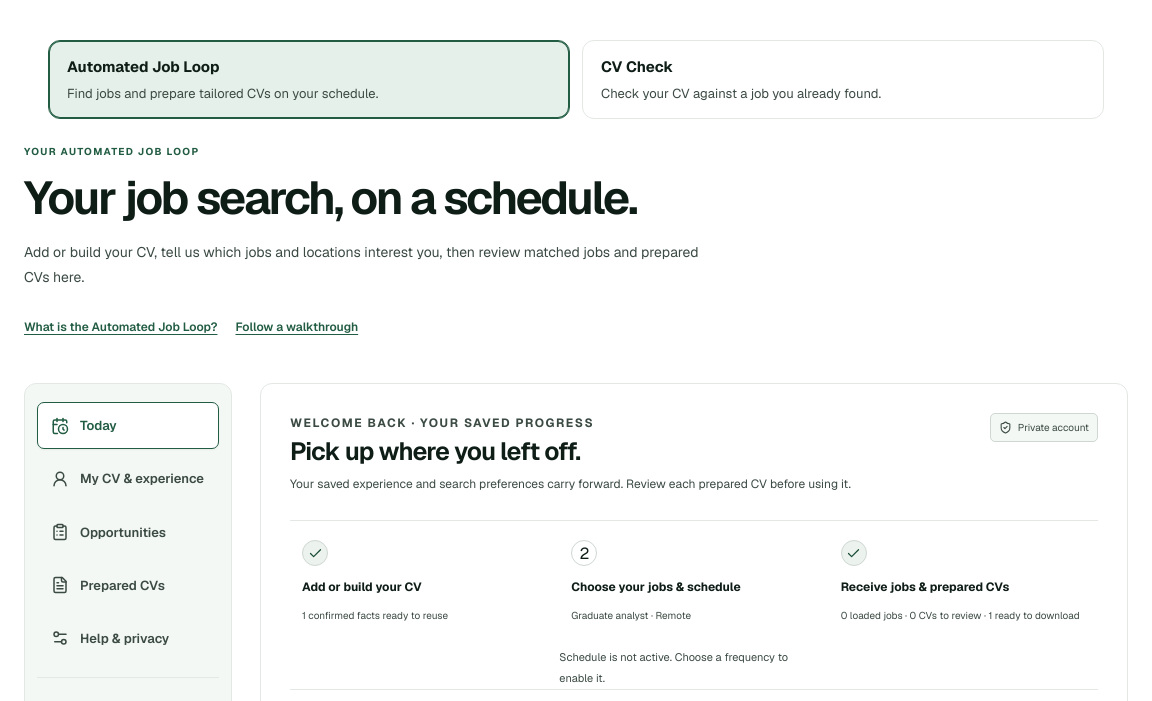
Scenario: exact approvals and account lifecycle › keeps ready Word and text formats available when the approved PDF cannot meet its page preference
This screenshot has width=1152, height=701.
What coordinates should you click on to do the following:
click the button "Prepared CVs"
I would click on:
 (128, 585)
Its box is [37,562,219,609].
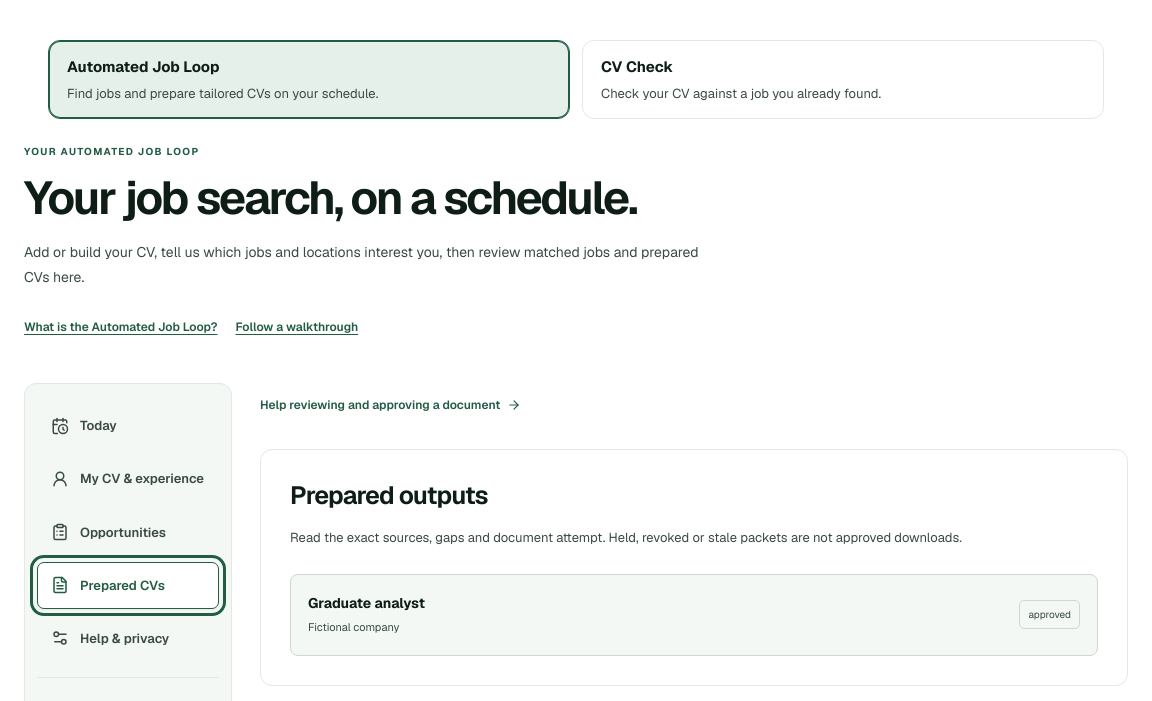
What coordinates should you click on to do the following:
click the button "Graduate analyst Fictional company approved"
I would click on:
 (366, 603)
Its box is [290,574,1098,656].
(page scrolled)
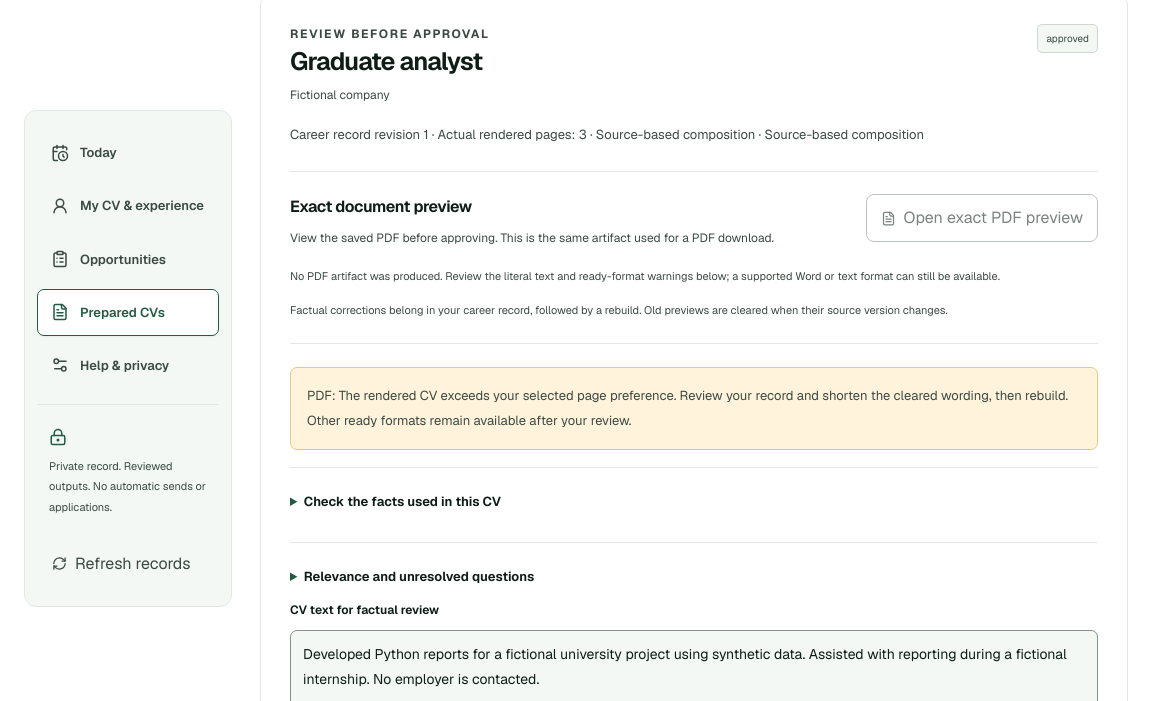
Now the text "Other ready formats remain available" is shown, box [307,412,631,429]
